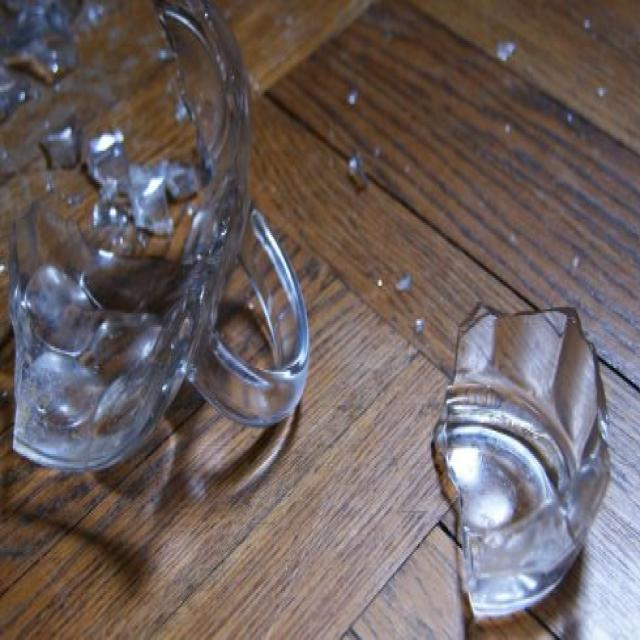electronic: (0, 4, 316, 483)
